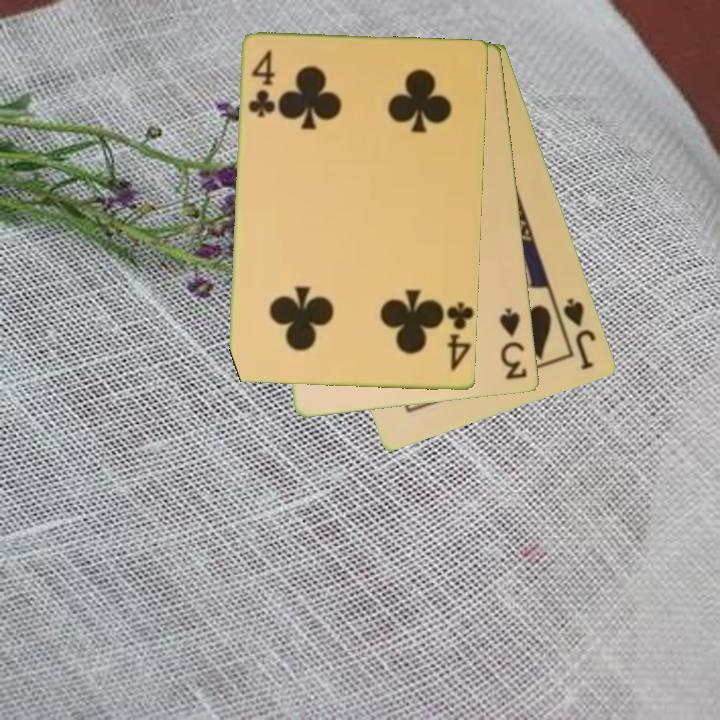3s: (496, 304, 530, 383)
4c: (245, 47, 278, 121), (443, 299, 474, 375)
Js: (560, 294, 600, 373)
